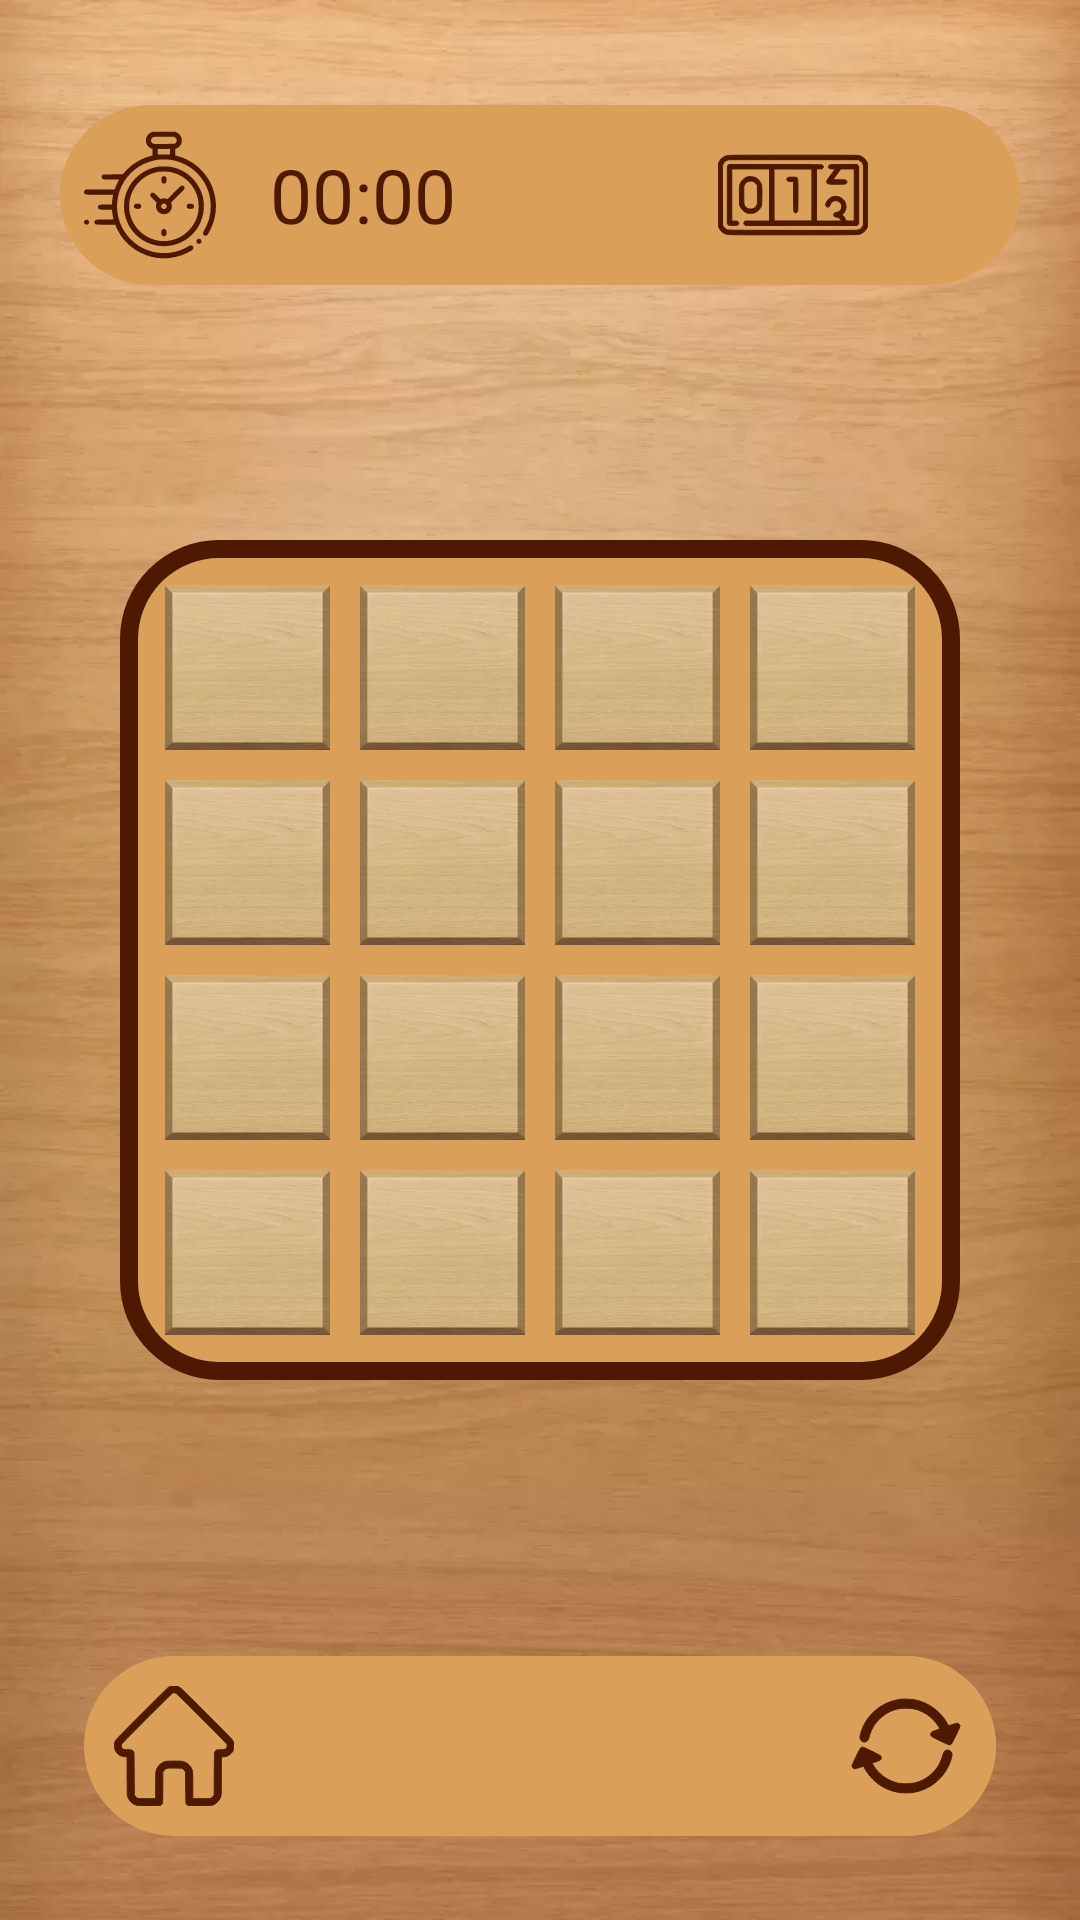

Named icons in this screenshot (1080x1920) and their centers, [x,y]:
counter: [793,195]
home: [174,1746]
restart: [906,1746]
time: [150,195]
